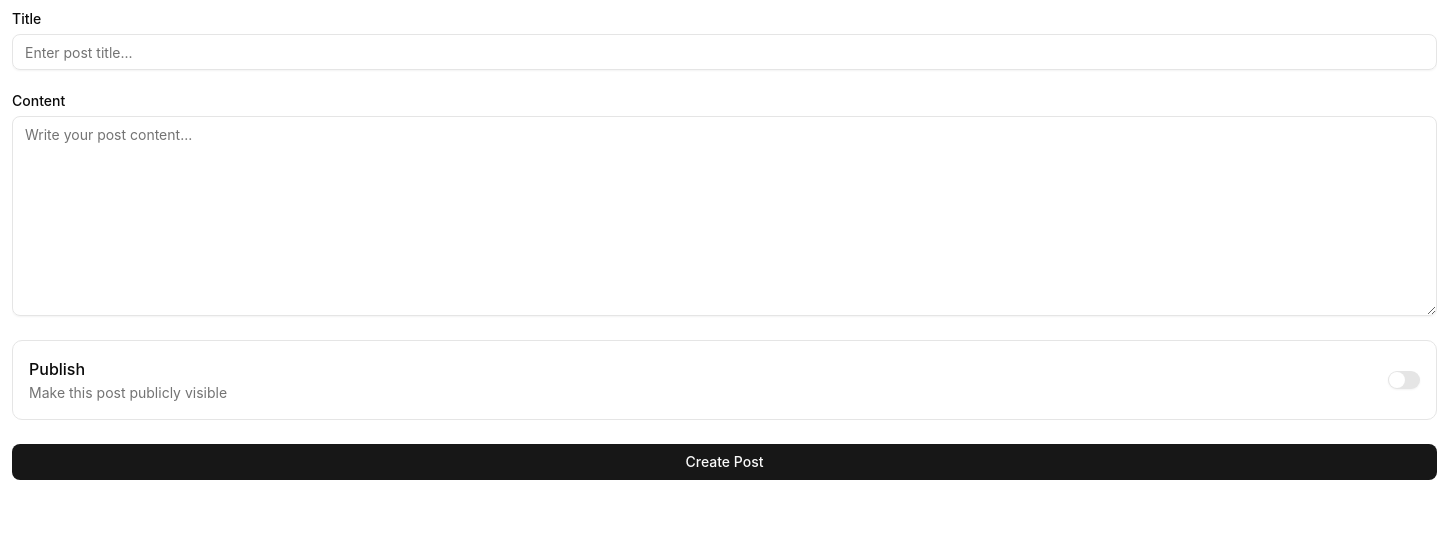
Test: CreatePostForm › shows validation errors for empty submission
Step 1. Click the button "Create Post" → (724, 462), box top-left (12, 444), bottom-right (1437, 480)
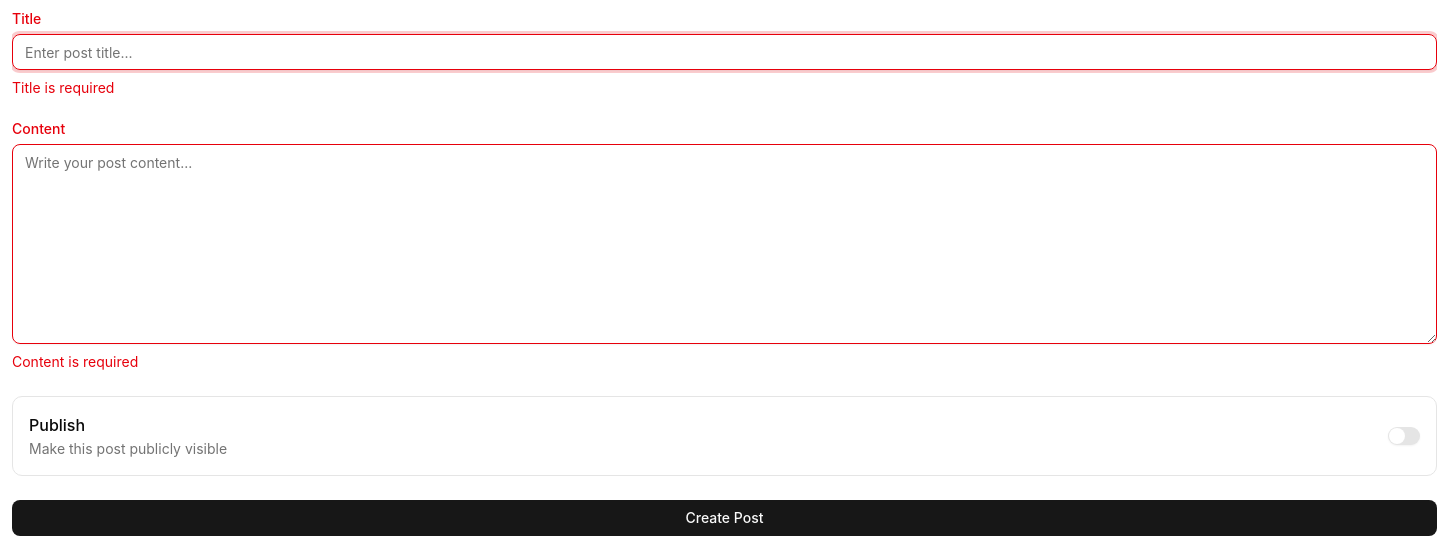
Check: the text "Title is required" is shown, box top-left (12, 79), bottom-right (114, 96)
